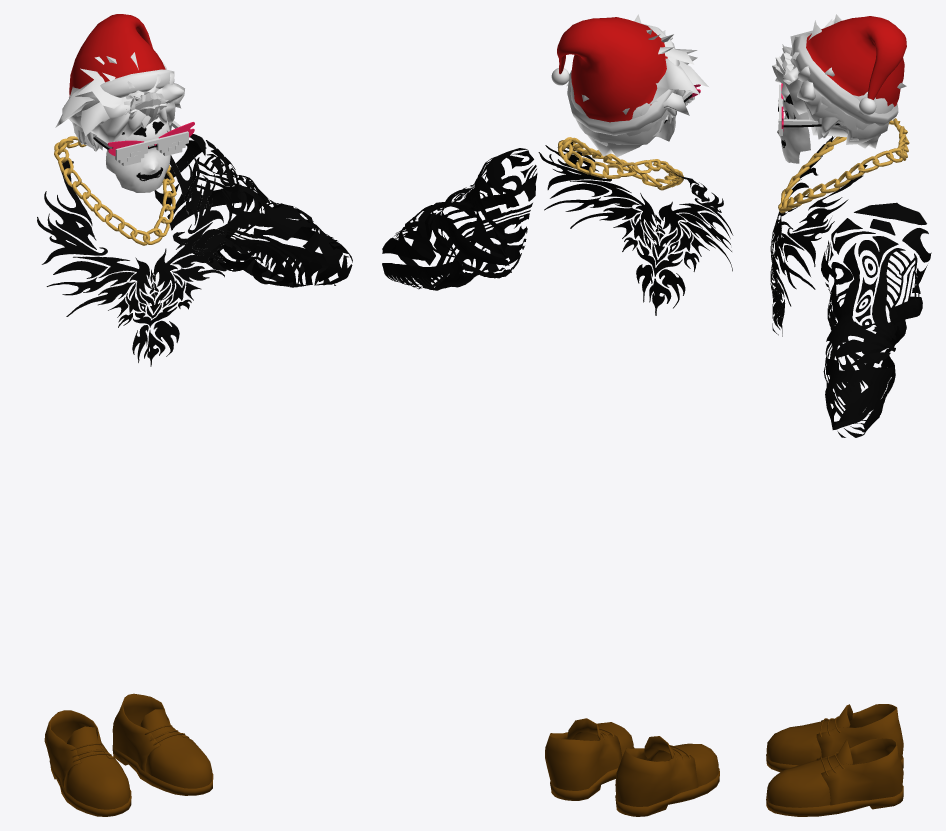
The model's file is GIANT_stuffs.fbx.
3 renders of one model, left to right at view 1: azimuth 30°, elevation 25°; view 2: azimuth 150°, elevation 25°; view 3: azimuth 270°, elevation 25°, orthographic. The views are drawn at different scales.
Visible parts, largest first — view 1: man.002, man.004, shoe_1.2_fit.002, shoe_1.2_fit.001, santa hat.002, face, model_0, hair.003, hair_1.003, Plane.003, hair_3.002; view 2: man.002, santa hat.002, man.004, shoe_1.2_fit.001, shoe_1.2_fit.002, hair.003, model_0, hair_1.003; view 3: man.002, santa hat.002, shoe_1.2_fit.002, shoe_1.2_fit.001, man.004, model_0, hair.003, face, hair_3, hair_1.003, hair_3.002, Plane.003 (+1 smaller).
Boxes of the visible parts, x1,y1,x2,y2 form: man.002: [154, 134, 352, 287]; man.004: [37, 155, 226, 366]; shoe_1.2_fit.002: [112, 693, 213, 795]; shoe_1.2_fit.001: [44, 710, 131, 816]; santa hat.002: [64, 14, 174, 123]; face: [106, 117, 170, 192]; model_0: [54, 136, 176, 245]; hair.003: [55, 56, 141, 151]; hair_1.003: [68, 88, 181, 149]; Plane.003: [94, 120, 188, 165]; hair_3.002: [78, 92, 169, 151]; man.002: [382, 148, 537, 290]; santa hat.002: [551, 17, 679, 135]; man.004: [538, 142, 733, 315]; shoe_1.2_fit.001: [615, 736, 719, 816]; shoe_1.2_fit.002: [545, 718, 634, 800]; hair.003: [569, 29, 708, 144]; model_0: [558, 137, 683, 190]; hair_1.003: [566, 55, 697, 157]; man.002: [821, 202, 931, 437]; santa hat.002: [792, 16, 906, 126]; shoe_1.2_fit.002: [766, 738, 903, 816]; shoe_1.2_fit.001: [766, 704, 903, 772]; man.004: [770, 136, 867, 336]; model_0: [778, 118, 909, 213]; hair.003: [782, 14, 889, 144]; face: [777, 94, 810, 163]; hair_3: [782, 66, 893, 140]; hair_1.003: [781, 66, 906, 148]; hair_3.002: [772, 52, 856, 140]; Plane.003: [778, 84, 857, 135].
Bounding box in the file's own units: 3.31 × 7.25 × 1.41.
10 materials, 3 textured.
